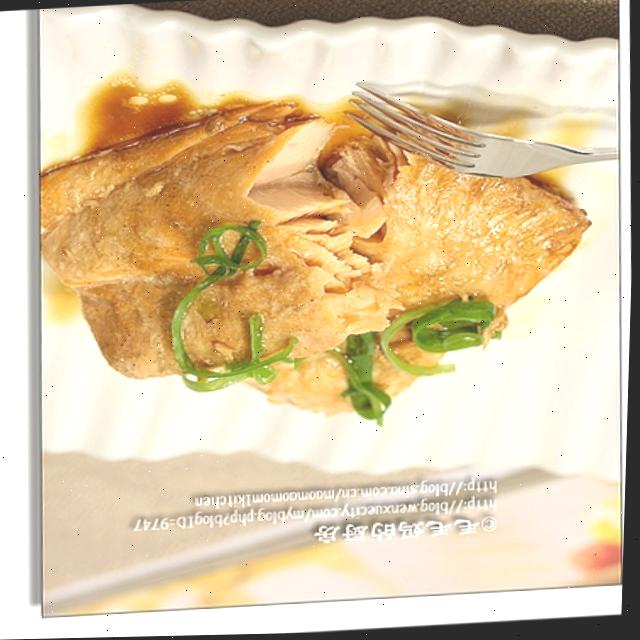熟制海鲜: (32, 53, 615, 477)
